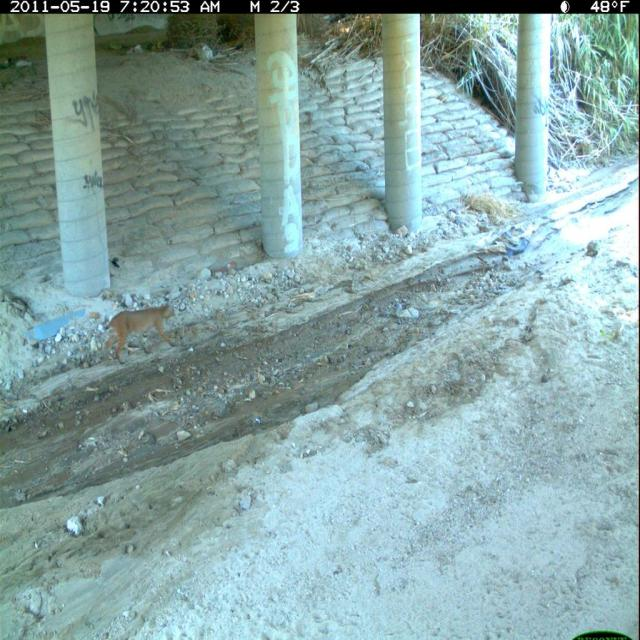bobcat: (102, 299, 182, 367)
